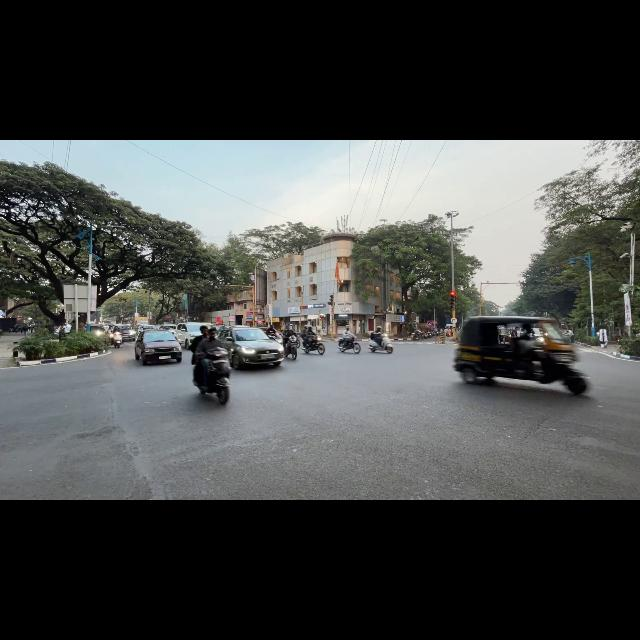car: (218, 326, 283, 369), (135, 329, 181, 364), (176, 322, 210, 348), (110, 325, 136, 341), (159, 324, 176, 333), (136, 325, 157, 330), (64, 325, 71, 333)
motorcycle: (194, 348, 230, 404), (369, 334, 393, 353), (303, 336, 324, 354), (338, 336, 360, 353), (284, 335, 298, 360), (110, 332, 122, 348), (268, 334, 282, 344), (411, 330, 425, 339), (296, 336, 301, 348)
